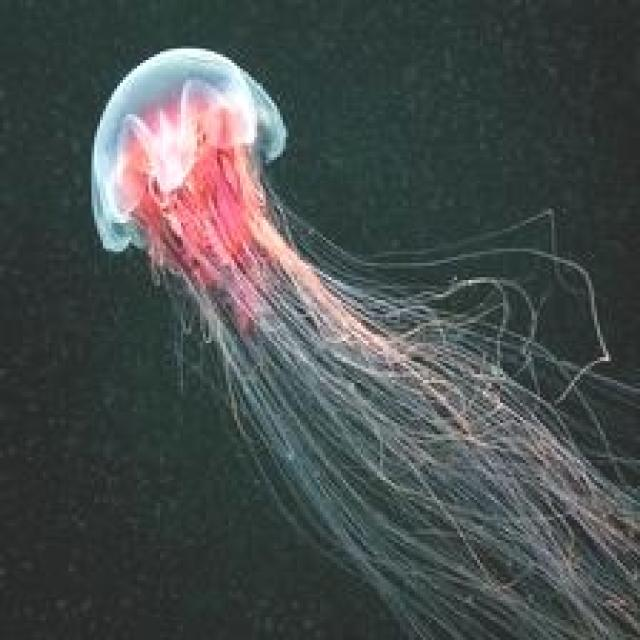Box-jellyfish: (86, 43, 637, 637)
